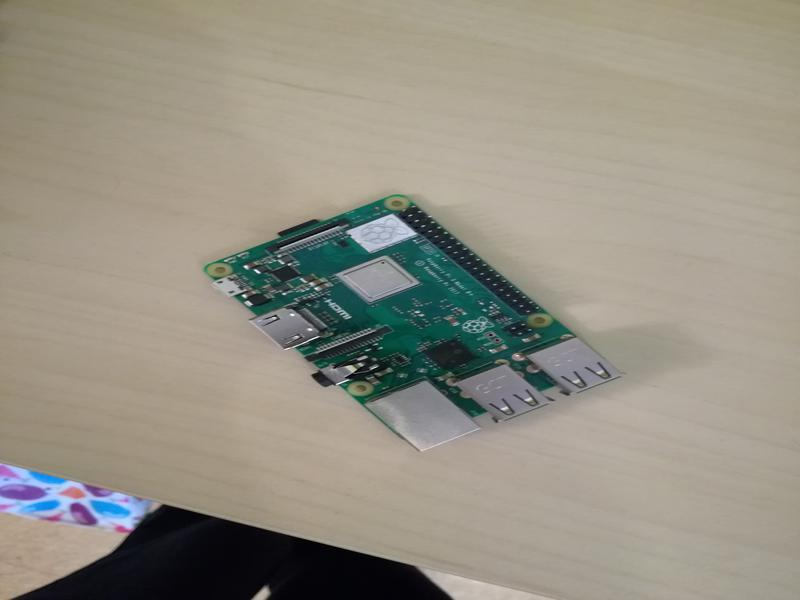Raspberry_Pi_3: (193, 190, 632, 463)
